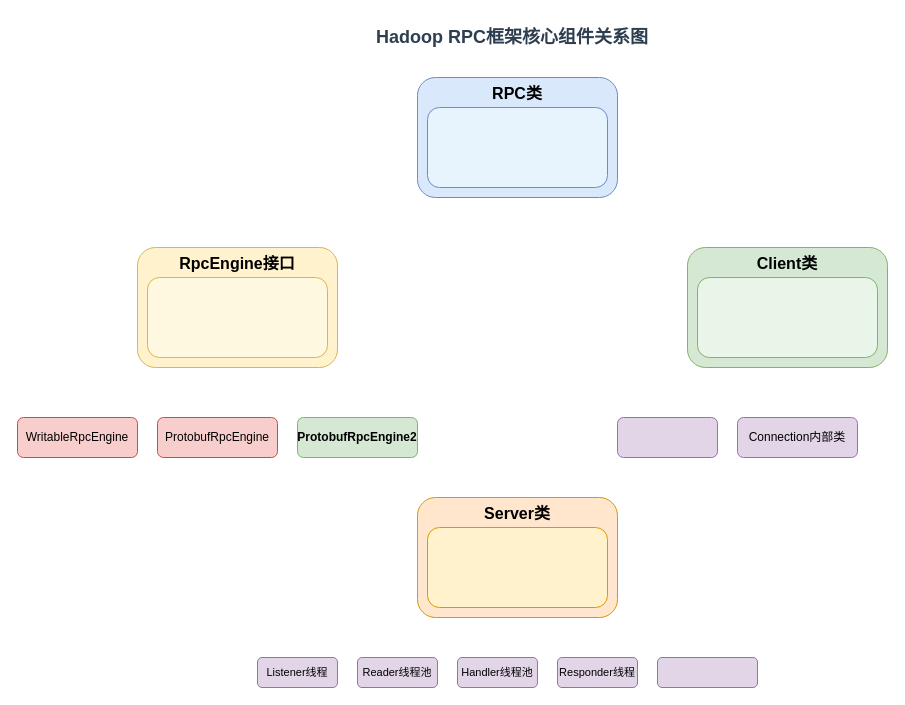
The diagram is 905 pixels wide and 705 high, and some of its shapes have lost their labels. Here are the shapes that lost their labels. From the top down, the centre of each, then its label:
At point 517,147: "• 协议管理 • 版本控制 • 引擎配置 • getProtocolEngine() • setProtocolEngine()".
At point 237,317: "• getProxy() • getServer() • 可插拔序列化 • 协议引擎抽象".
At point 787,317: "• 连接池管理 • 异步调用 • 容错重试 • call()方法 • Connection管理".
At point 667,437: "Call内部类".
At point 517,567: "• 多线程架构 • 高并发处理 • 资源管理 • 请求队列管理 • 响应处理".
At point 707,672: "CallQueueManager".
